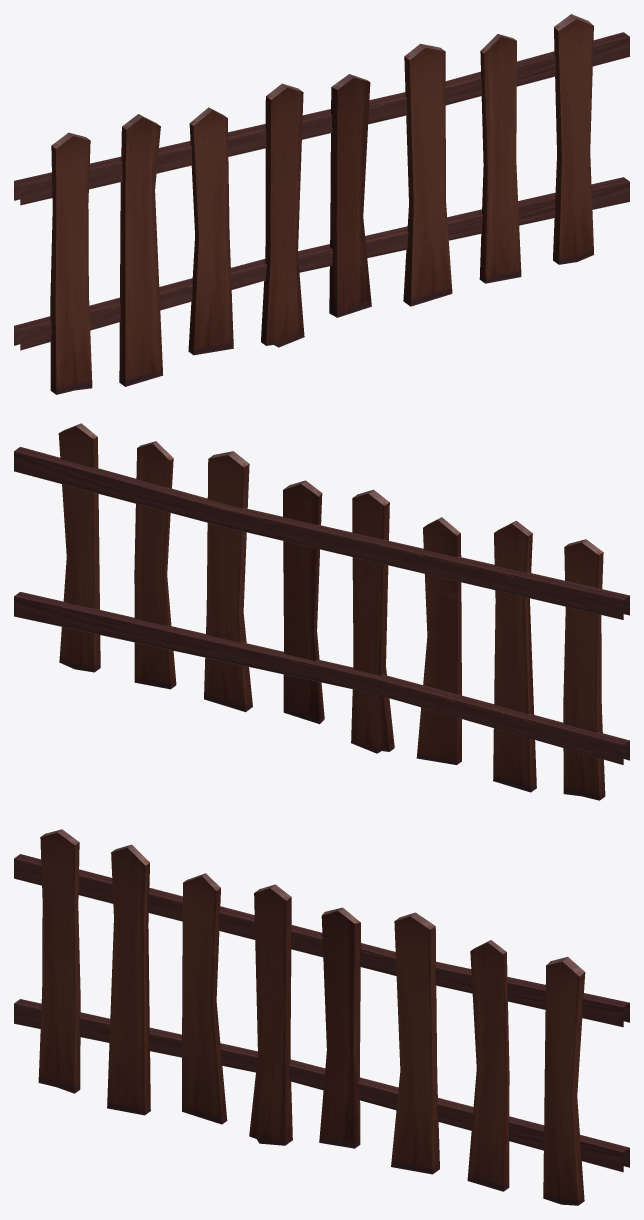
The model's file is shrine_wj002_04.FBX.
The picture shows the model from 3 angles, top to bottom: view 1: azimuth 30°, elevation 25°; view 2: azimuth 150°, elevation 25°; view 3: azimuth 330°, elevation 25°; orthographic projection.
Visible parts, largest first — view 1: shrine_wj002_04; view 2: shrine_wj002_04; view 3: shrine_wj002_04.
Boxes of the visible parts, left/top/right/bottom form: shrine_wj002_04: left=14, top=14, right=629, bottom=394; shrine_wj002_04: left=14, top=423, right=629, bottom=800; shrine_wj002_04: left=14, top=829, right=629, bottom=1205.
Bounding box in the file's own units: 212 × 87.94 × 7.86.
Materials: 1 (1 with a texture image).
